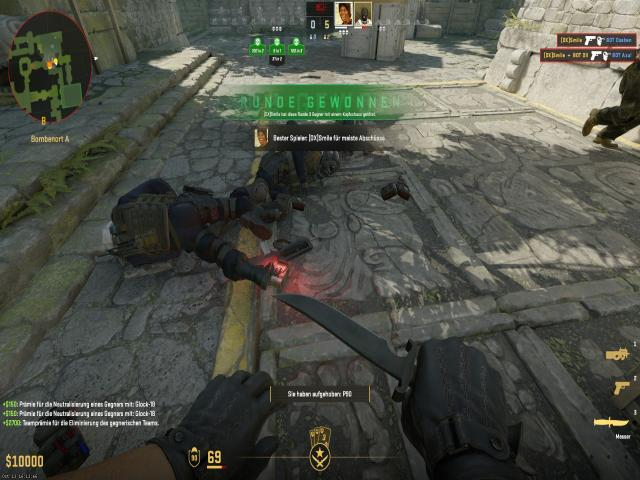Bomb: (267, 254, 303, 293)
Dead: (92, 175, 241, 287), (237, 147, 334, 233)
T: (578, 58, 640, 148)
